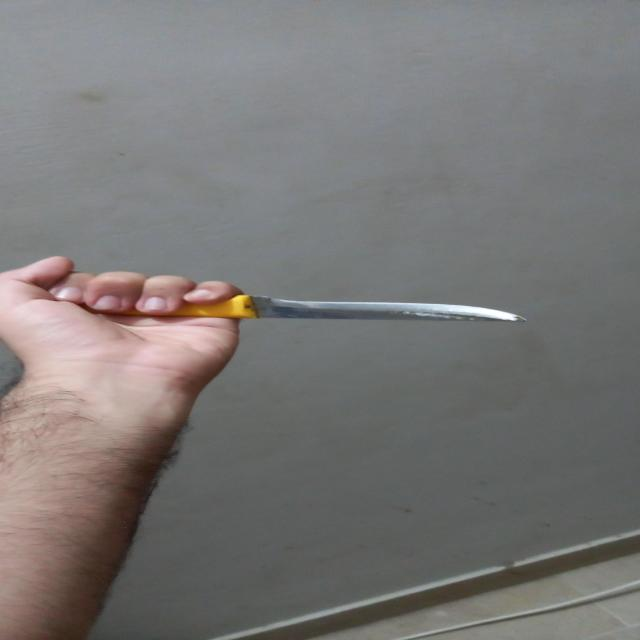Knife: (110, 295, 530, 321)
Person: (0, 256, 239, 640)
